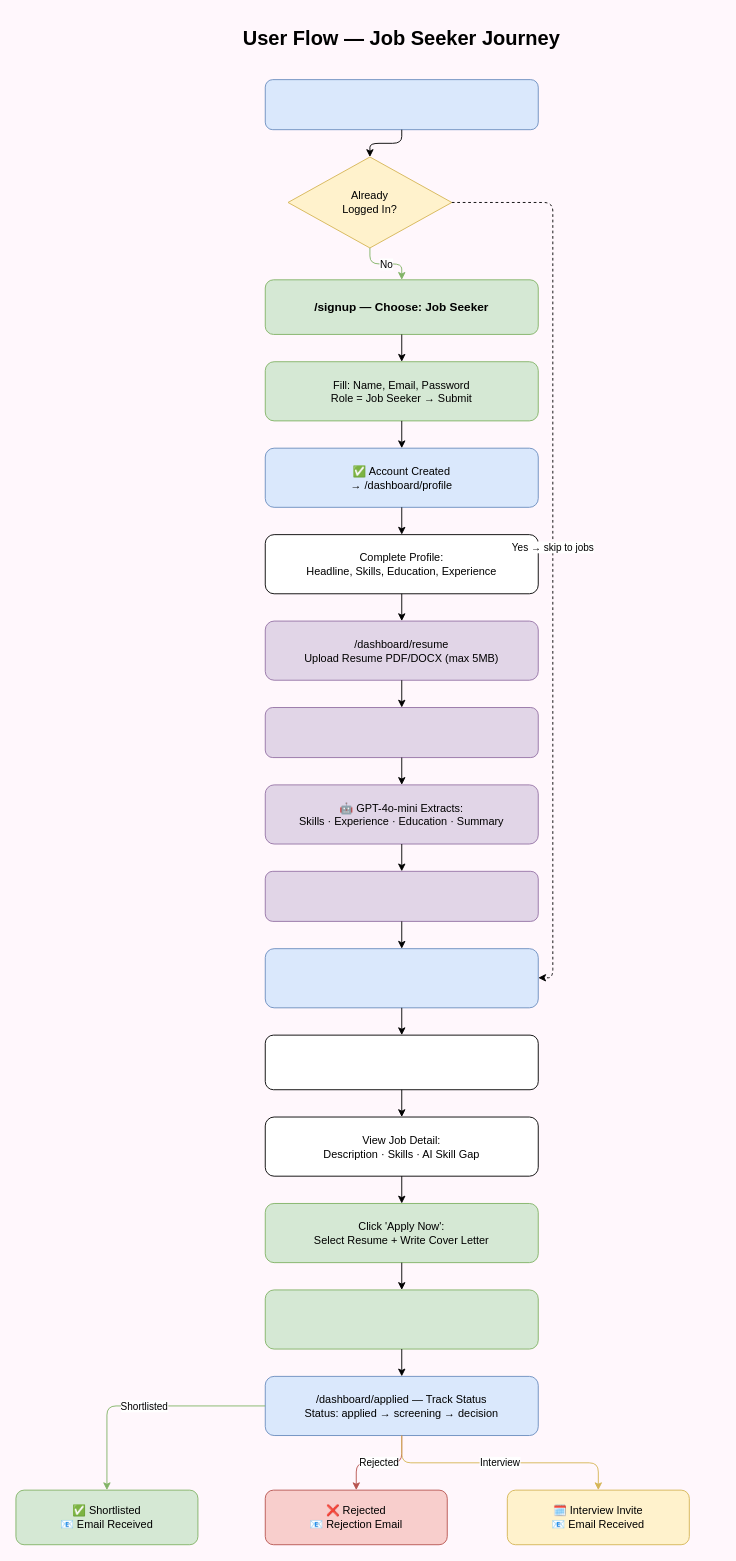
This 736x1561 diagram has some shape labels left out. The centre of each missing label's shape, as x and y in pixels:
/dashboard/jobs — Browse Jobs with AI Match Score %: [401,978]
Search + Filter + Sort by Highest AI Match: [401,1062]
⚡ AI Parsing Queued (Bull + Redis): [401,732]
✅ Application Submitted AI Match Score Computed Async: [401,1319]
🌐 Visit Landing Page: [401,104]
📊 AI Analysis Shown in Dashboard: [401,895]
